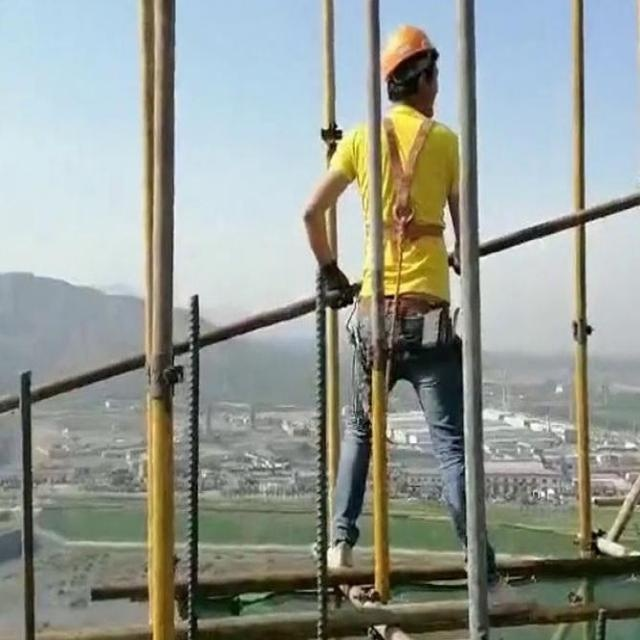Arnes_seguridad: (376, 104, 456, 263)
